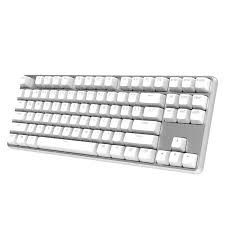keyboard: (7, 62, 220, 175)
